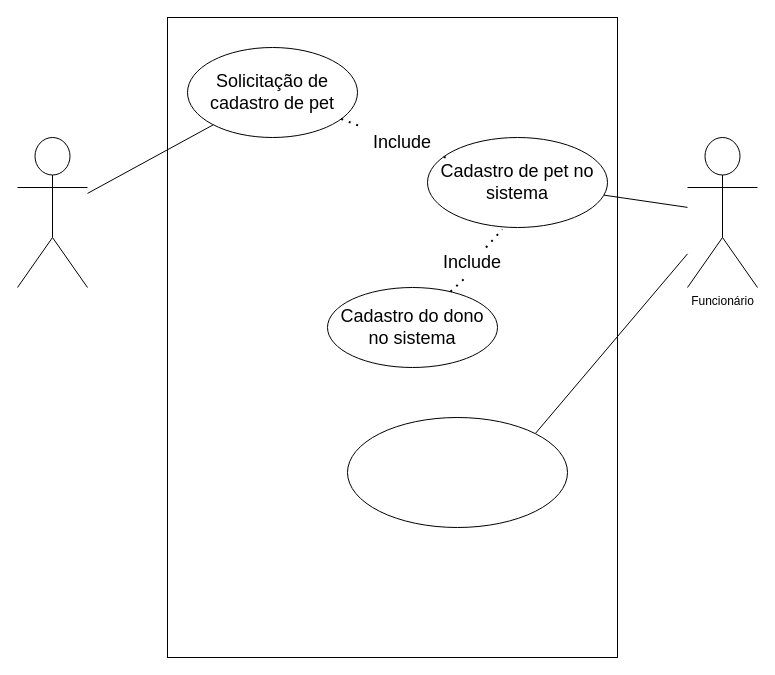
Image size: 775x675. Some labels were removed from this diagram. Here are the shapes that lost their labels. From the top down, the box of each, then its label:
(16, 136, 88, 288): Cliente
(346, 416, 568, 528): Passar dados das fichas historicas para o sistema
